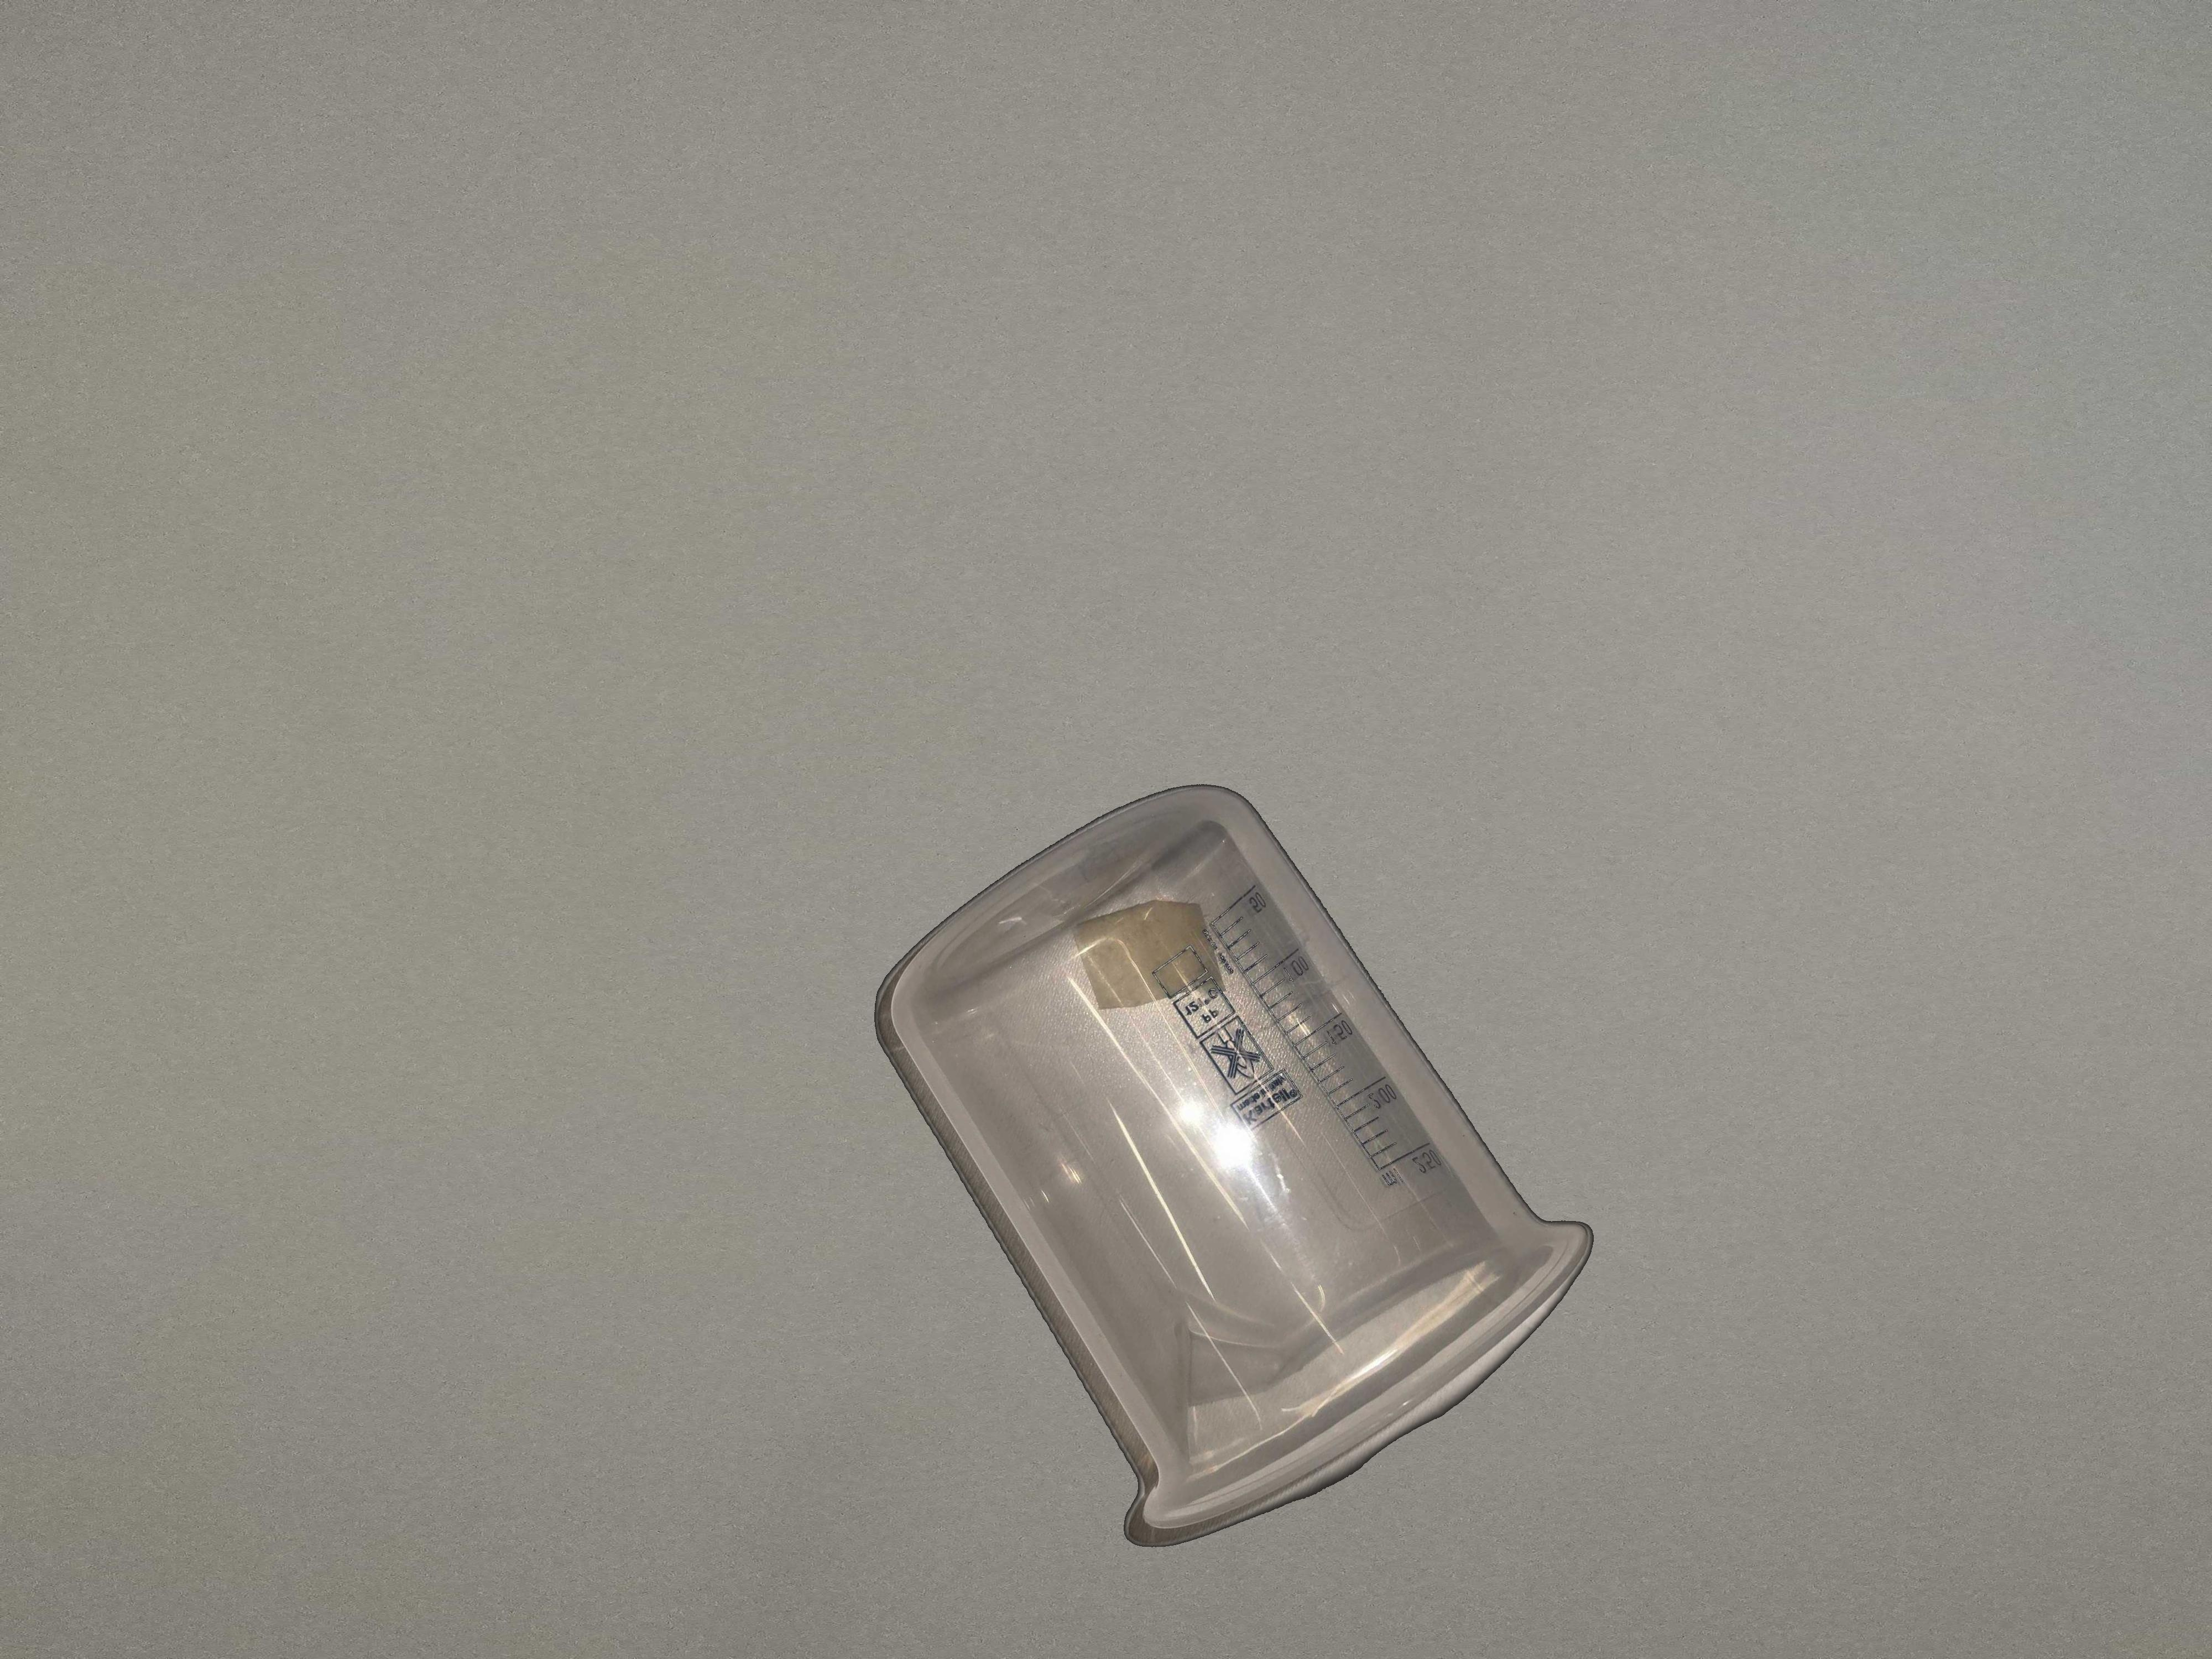becker: (869, 779, 1594, 1551)
